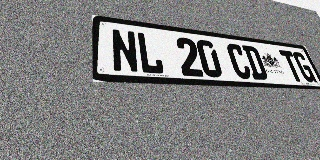0: (195, 39, 223, 78)
2: (175, 37, 204, 77)
C: (225, 43, 253, 79)
D: (242, 45, 269, 80)
G: (291, 51, 317, 83)
L: (136, 32, 165, 75)
N: (111, 28, 140, 73)
T: (279, 50, 305, 82)
